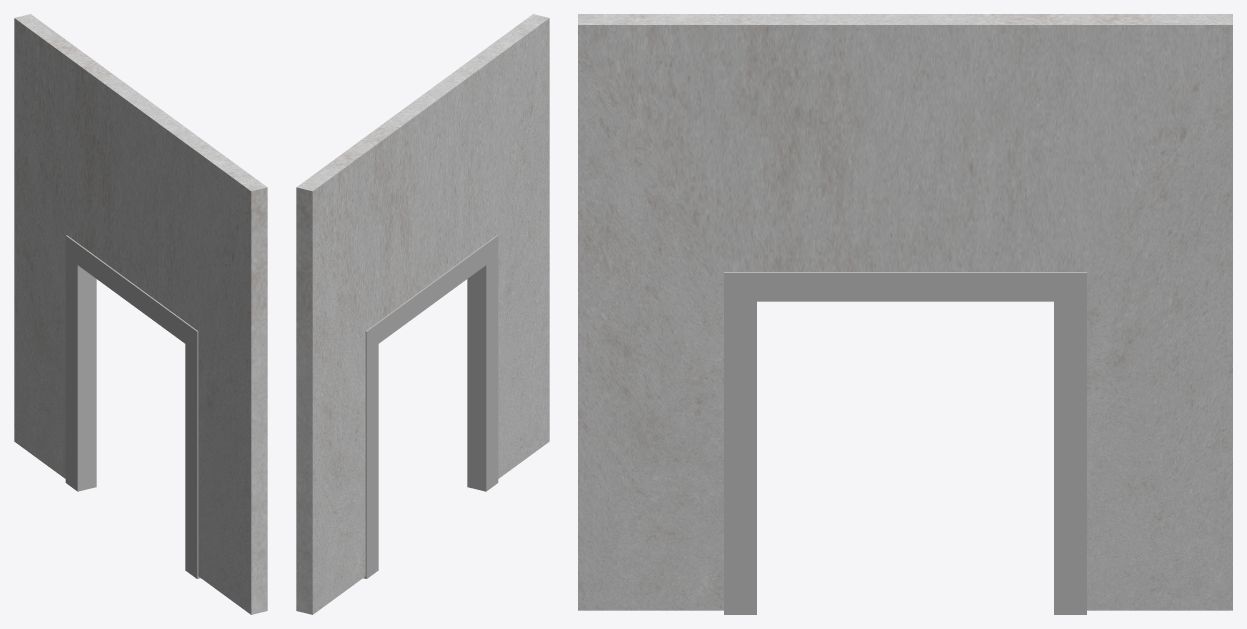
Rendered from SM_White_Red_Wall01G.fbx.
The picture shows the model from 3 angles, left to right: view 1: azimuth 30°, elevation 25°; view 2: azimuth 150°, elevation 25°; view 3: azimuth 270°, elevation 25°; orthographic projection. The views are drawn at different scales.
Visible parts, largest first — view 1: SM_White_Red_Wall01G; view 2: SM_White_Red_Wall01G; view 3: SM_White_Red_Wall01G.
Part boxes in pixels (x1=…): SM_White_Red_Wall01G: x1=14, y1=14, x2=267, y2=614; SM_White_Red_Wall01G: x1=296, y1=14, x2=549, y2=614; SM_White_Red_Wall01G: x1=578, y1=14, x2=1232, y2=614.
Bounding box in the file's own units: 11.37 × 245 × 243.
